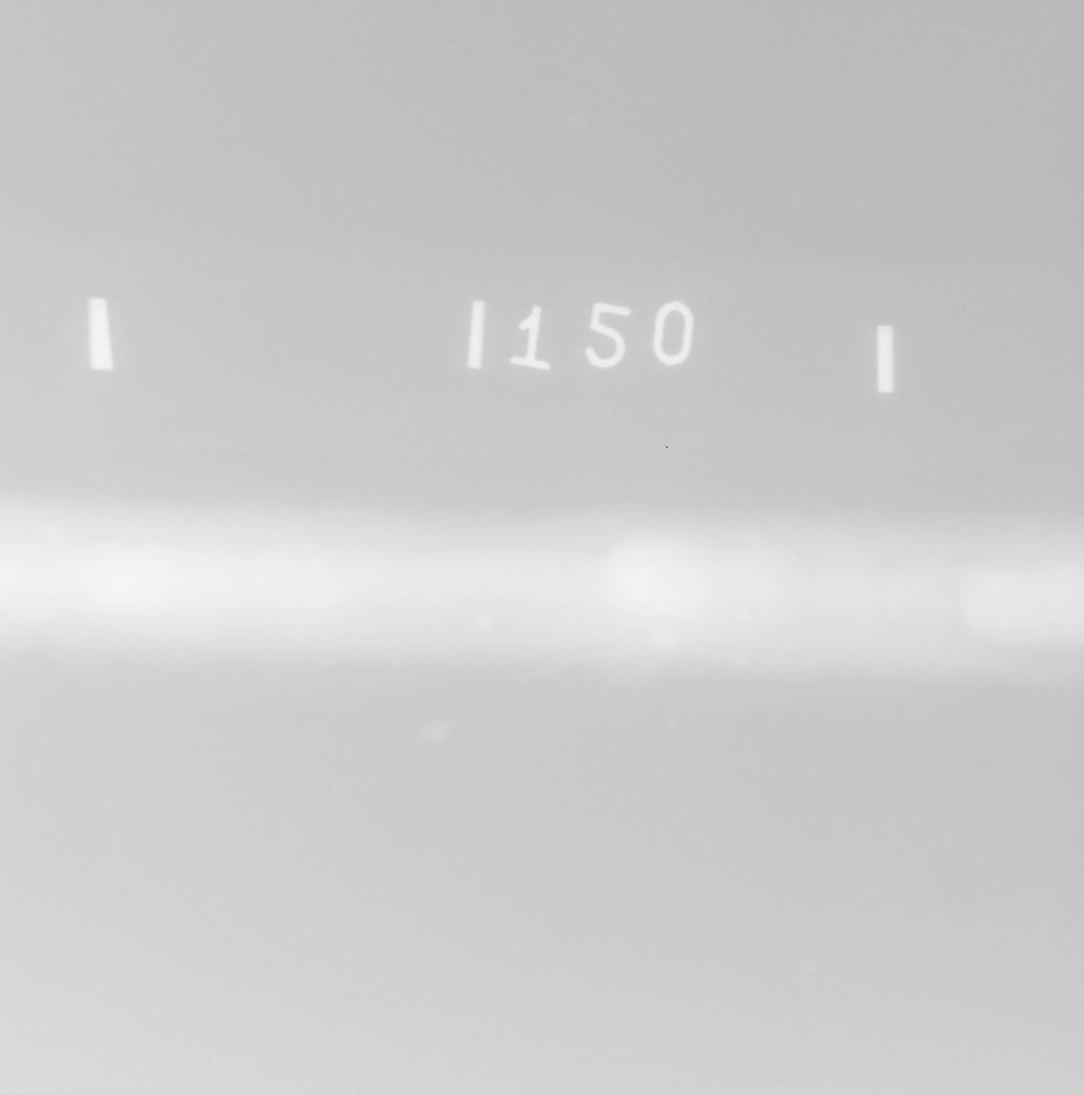Pore/Porosity: (50, 582, 57, 586)
